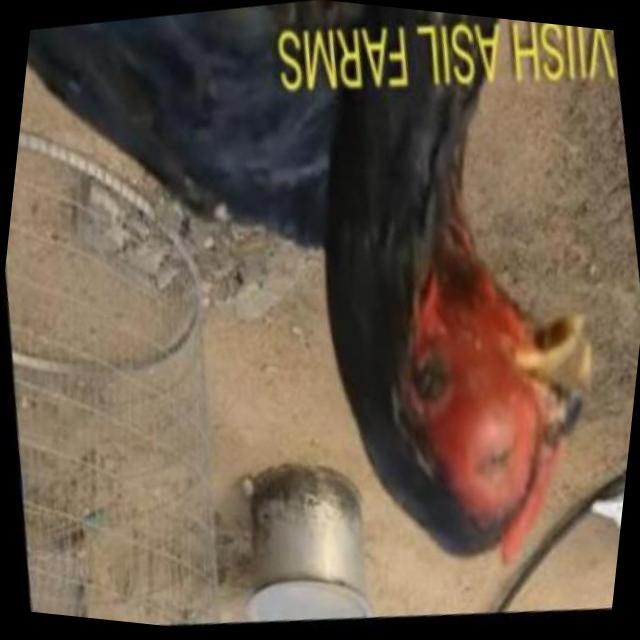Coryza: (426, 380, 555, 523)
